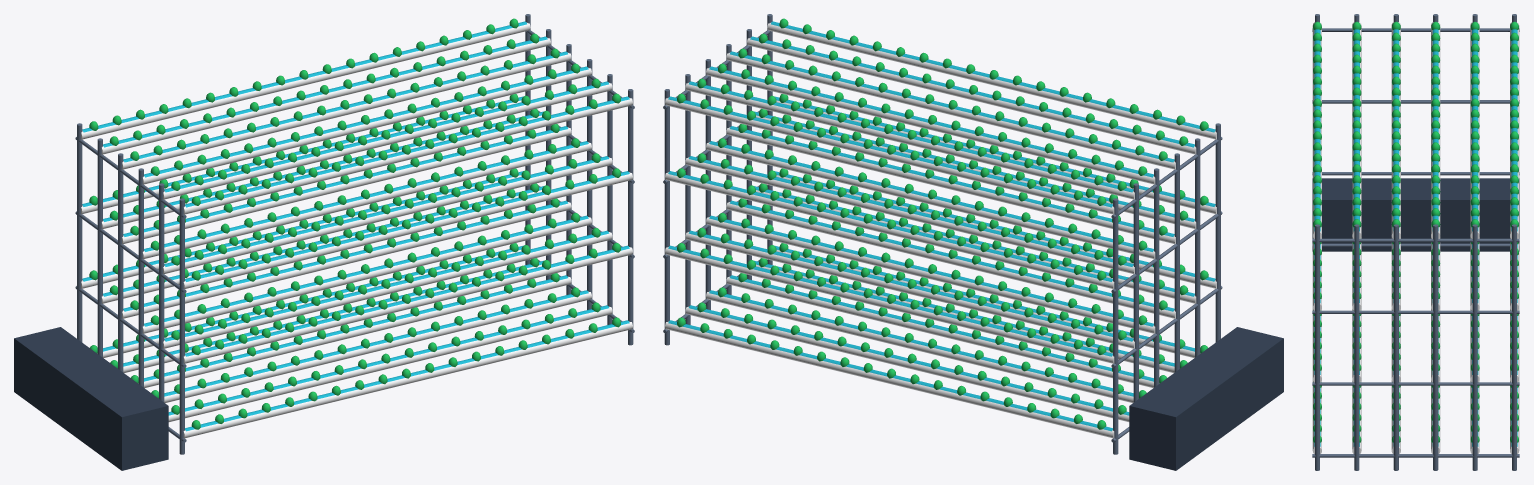
File: hidroponia-48.glb
3 views of the same model, side by side, from view 1: azimuth 30°, elevation 25°; view 2: azimuth 150°, elevation 25°; view 3: azimuth 270°, elevation 25° (orthographic). The views are drawn at different scales.
Size of the model in its own units: 5.5 by 2.6 by 2.
